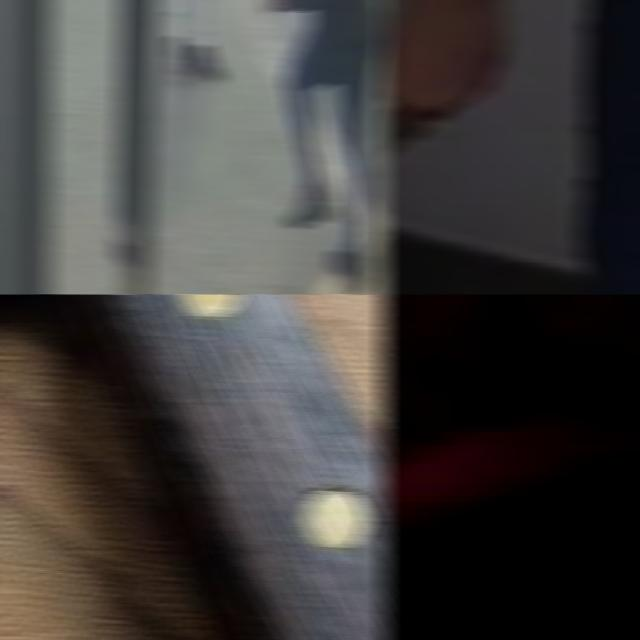Knife: (380, 96, 432, 274)
Knife_Handle: (380, 294, 640, 534), (380, 0, 512, 276)
